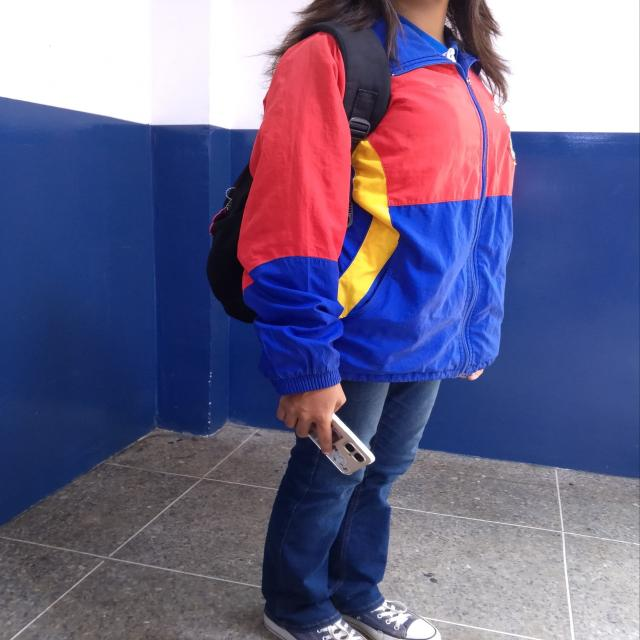chaqueta_unefa: (235, 6, 520, 398)
pantalon_oscuro: (258, 380, 442, 634)
